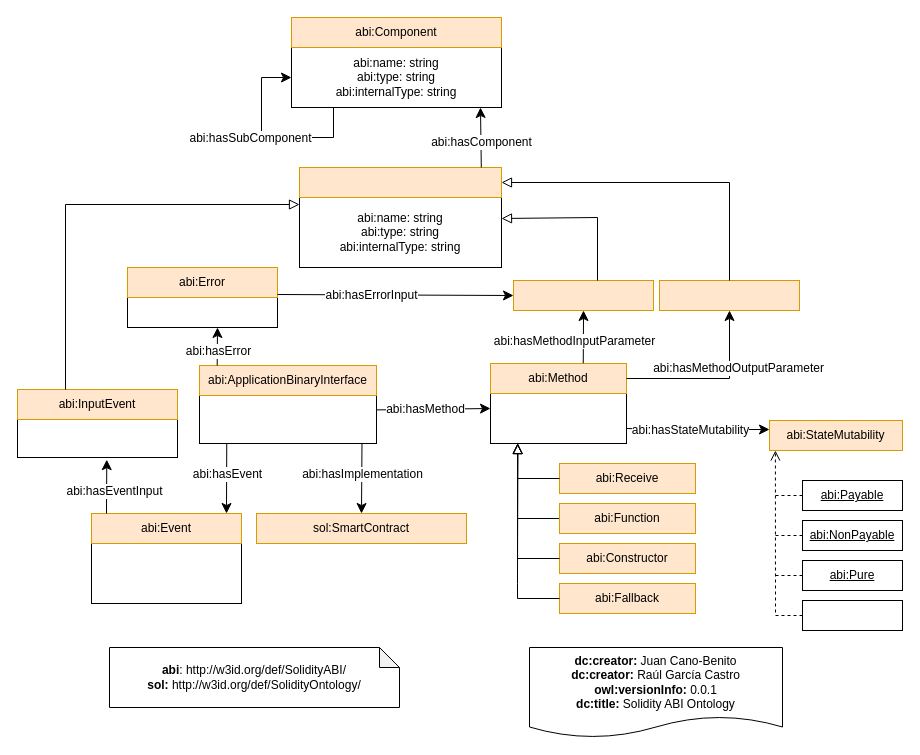
Image size: 920x755. Some labels were removed from this diagram. Here are the shapes that lost their labels. From the top down, the centre of each, then its label:
the point at 400,182: abi:Parameter
the point at 202,312: abi:name: string
the point at 583,295: abi:InputParameter
the point at 729,295: abi:OutputParameter
the point at 97,438: abi:indexed:string
the point at 287,419: abi:address: string abi:name: string
the point at 558,418: abi:name: string abi:isConstant: boolean
the point at 166,573: abi:name: string abi:isAnonymous: boolean
the point at 852,615: abi:View
